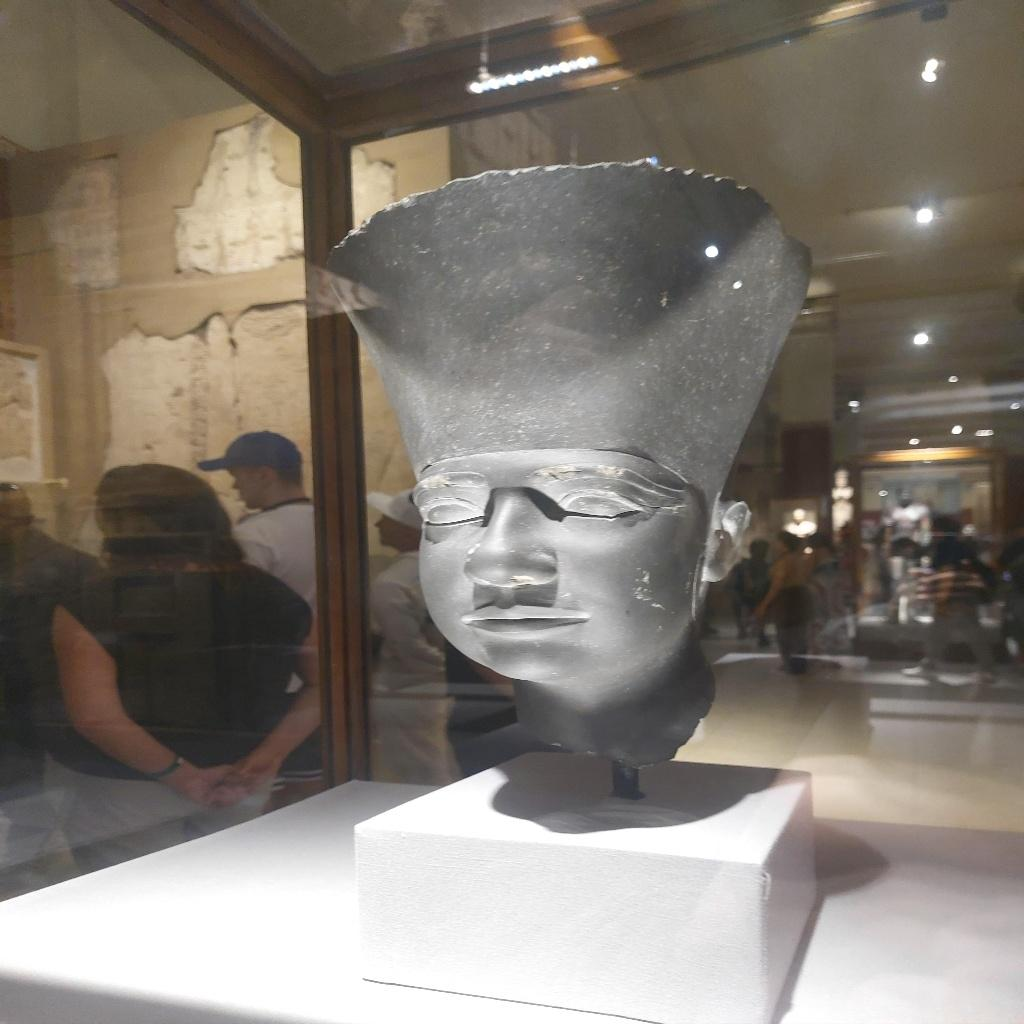Head of Userkaf: (328, 156, 820, 768)
